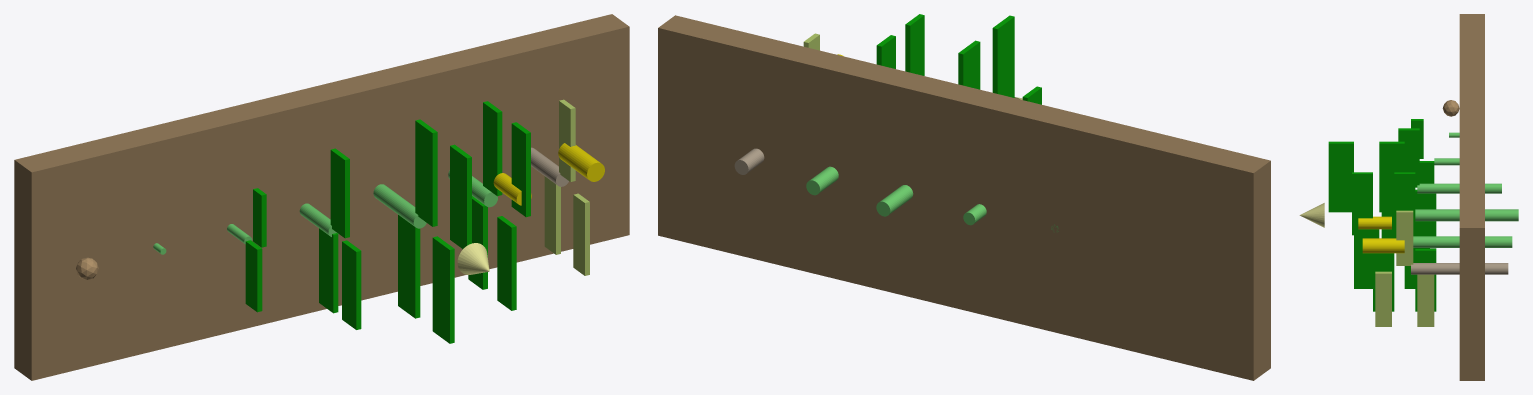
File: crop_growth_stages.glb
The picture shows the model from 3 angles, left to right: view 1: azimuth 30°, elevation 25°; view 2: azimuth 150°, elevation 25°; view 3: azimuth 270°, elevation 25°; orthographic projection. The views are drawn at different scales.
Visible parts, largest first — view 1: world; view 2: world; view 3: world.
Boxes of the visible parts, x1,y1,x2,y2 form: world: (14, 14, 629, 380); world: (658, 14, 1270, 380); world: (1299, 14, 1518, 380).
Bounding box in the file's own units: 12 × 4 × 5.2.
